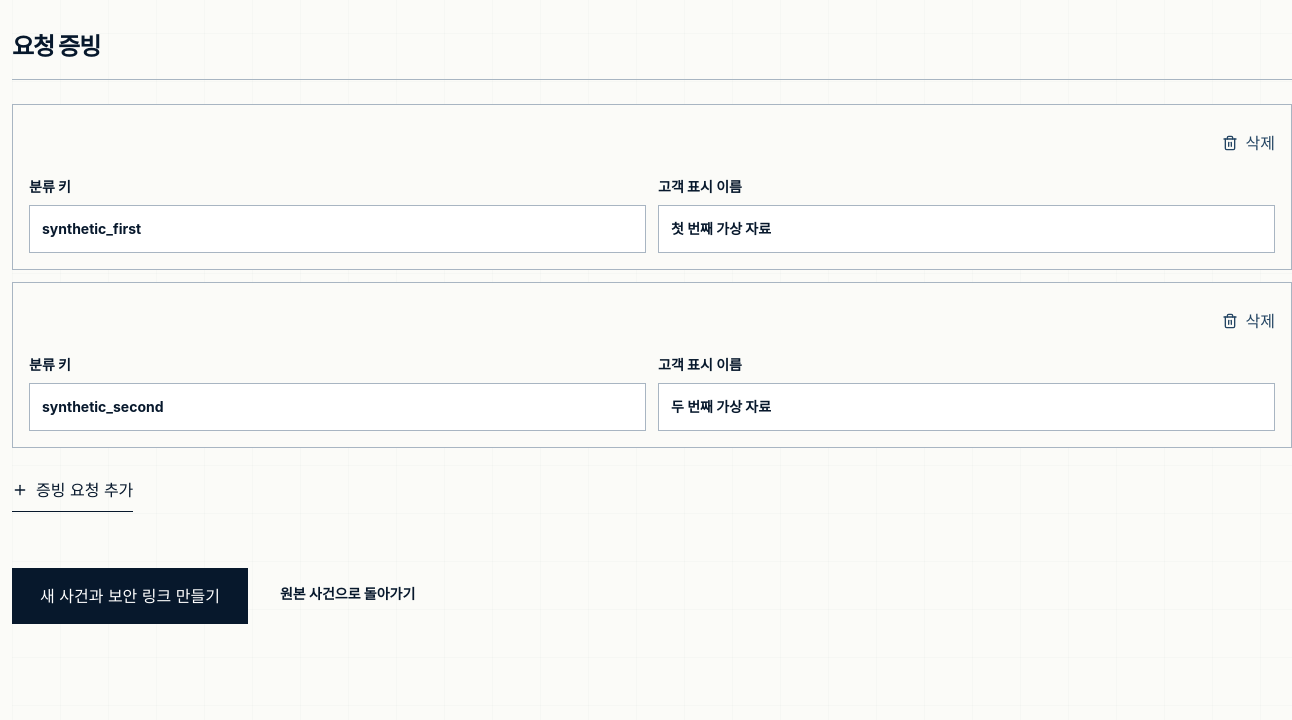
Test case: case configuration editor › creates one new-link request and shows the one-time clone result
The image size is (1292, 720).
(page scrolled)
Click the button "새 사건과 보안 링크 만들기".
click(130, 596)  # box [12, 568, 248, 624]
(page scrolled)
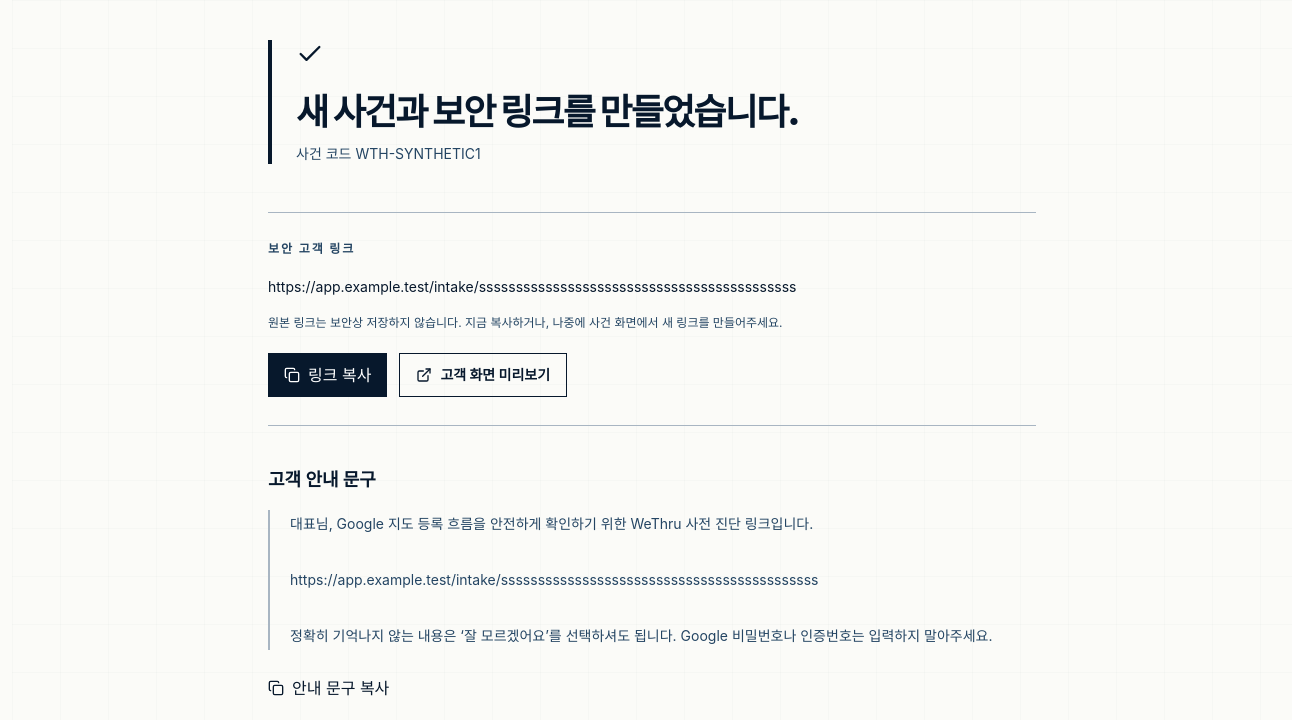
Result: the heading "새 사건과 보안 링크를 만들었습니다." is shown at [296, 90, 799, 134]
Result: the text "WTH-SYNTHETIC1" is shown at [355, 145, 481, 162]
